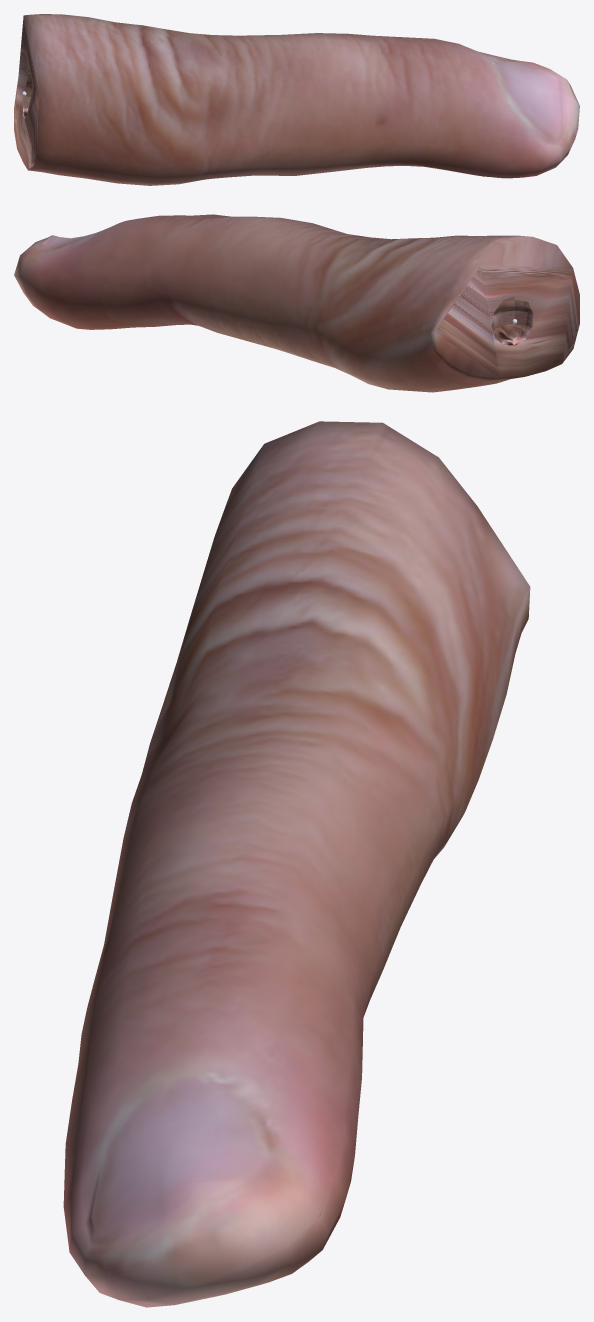
3 views of the same model, one above another, from view 1: azimuth 30°, elevation 25°; view 2: azimuth 150°, elevation 25°; view 3: azimuth 270°, elevation 25° (orthographic). The views are drawn at different scales.
Parts seen in each view (by area): view 1: finger4; view 2: finger4; view 3: finger4.
Part boxes in pixels (bbox=[...]): finger4: bbox=[14, 14, 579, 185]; finger4: bbox=[14, 214, 579, 392]; finger4: bbox=[63, 421, 530, 1307].
Bounding box in the file's own units: 2.71 × 1.07 × 1.03.
Materials: 1 (1 with a texture image).
